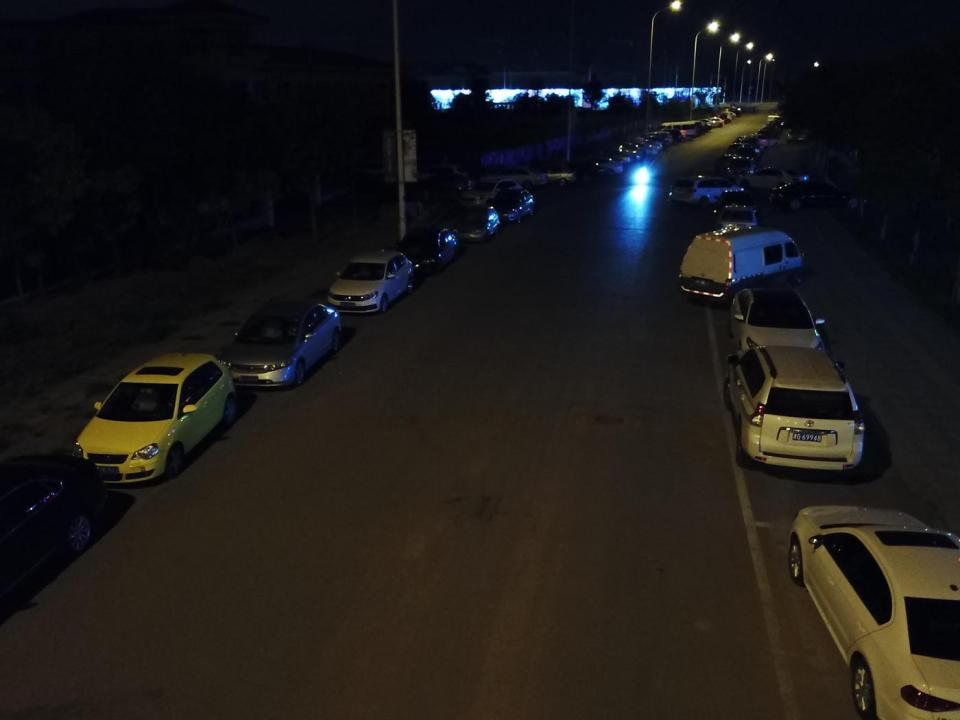car: (787, 503, 959, 720), (64, 348, 244, 484), (721, 340, 866, 476), (0, 454, 109, 618), (226, 297, 350, 394), (726, 286, 828, 366), (315, 249, 417, 313), (390, 222, 460, 271), (769, 182, 867, 211), (667, 174, 748, 207), (450, 202, 504, 244), (462, 178, 524, 210), (735, 167, 811, 192), (478, 166, 549, 192), (715, 202, 764, 237), (491, 188, 536, 224), (420, 160, 472, 190), (414, 172, 475, 197), (352, 157, 400, 185), (573, 152, 625, 176), (557, 158, 606, 182), (525, 162, 578, 184), (598, 140, 647, 162), (588, 144, 635, 166), (715, 188, 754, 214), (611, 138, 659, 159), (622, 136, 664, 155), (713, 152, 746, 173), (635, 132, 673, 148), (650, 128, 688, 144), (730, 156, 756, 179), (724, 142, 753, 159), (736, 144, 760, 163), (753, 134, 780, 148), (784, 128, 806, 145), (736, 135, 762, 149), (735, 138, 759, 153), (686, 119, 712, 132), (691, 117, 715, 131), (751, 133, 770, 150), (675, 122, 701, 134), (700, 116, 724, 128), (709, 113, 730, 122), (714, 112, 732, 122), (718, 111, 736, 120), (729, 106, 743, 117)
van: (677, 226, 801, 299), (659, 121, 696, 141)
